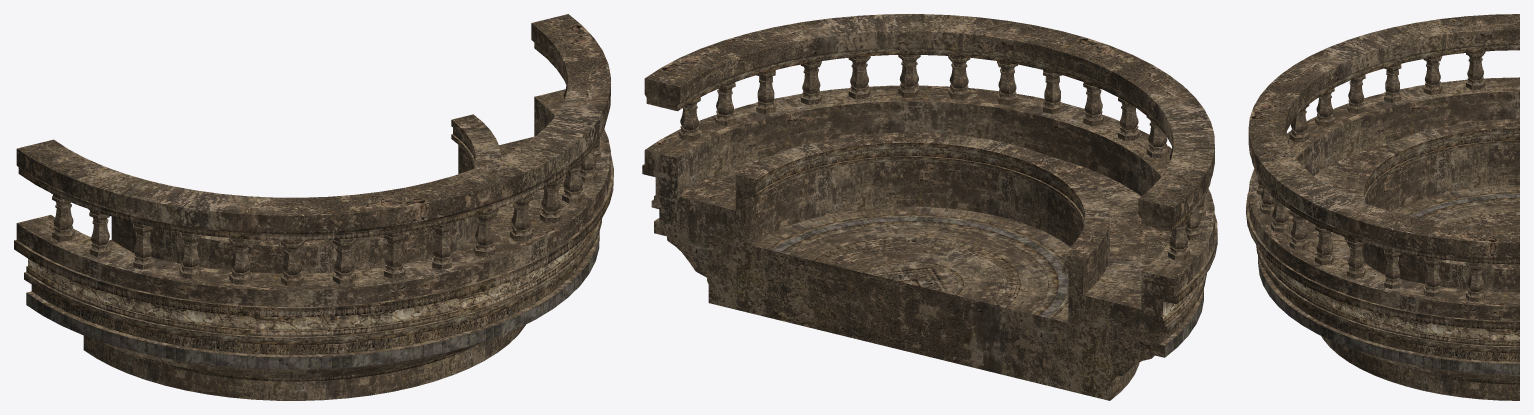
File: materials_5_balcony_2.fbx
3 views of the same model, side by side, from view 1: azimuth 30°, elevation 25°; view 2: azimuth 150°, elevation 25°; view 3: azimuth 270°, elevation 25° (orthographic). The views are drawn at different scales.
Parts seen in each view (by area): view 1: materials_5_balcony_2; view 2: materials_5_balcony_2; view 3: materials_5_balcony_2.
Part boxes in pixels (bbox=[...]): materials_5_balcony_2: bbox=[14, 14, 613, 400]; materials_5_balcony_2: bbox=[642, 14, 1217, 400]; materials_5_balcony_2: bbox=[1246, 14, 1519, 400].
Size of the model in its own units: 544 by 203 by 272.
